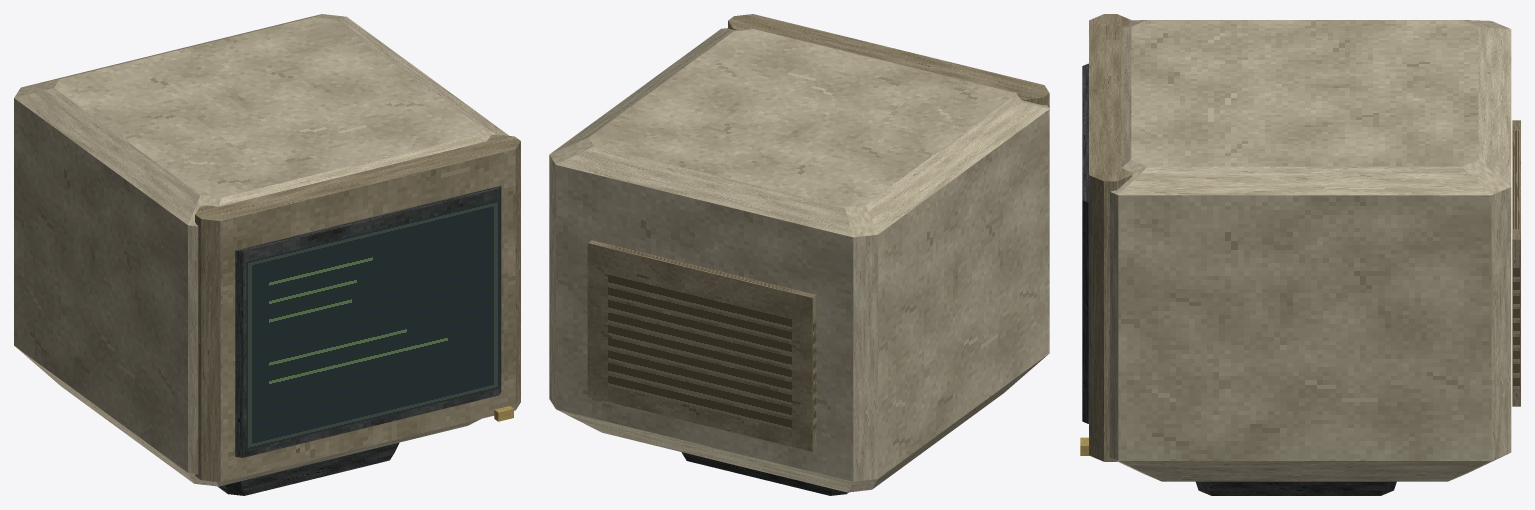
The model's file is crt.glb.
The picture shows the model from 3 angles, left to right: view 1: azimuth 30°, elevation 25°; view 2: azimuth 150°, elevation 25°; view 3: azimuth 270°, elevation 25°; orthographic projection. The views are drawn at different scales.
Parts seen in each view (by area): view 1: Body, OriginalCRTGlass; view 2: Body; view 3: Body.
Part boxes in pixels (left/top/right/bottom): Body: left=14, top=14, right=520, bottom=495; OriginalCRTGlass: left=246, top=200, right=500, bottom=449; Body: left=549, top=14, right=1049, bottom=495; Body: left=1080, top=14, right=1520, bottom=495.
Size of the model in its own units: 0.38 by 0.365 by 0.408.
Materials: 1 (1 with a texture image).
